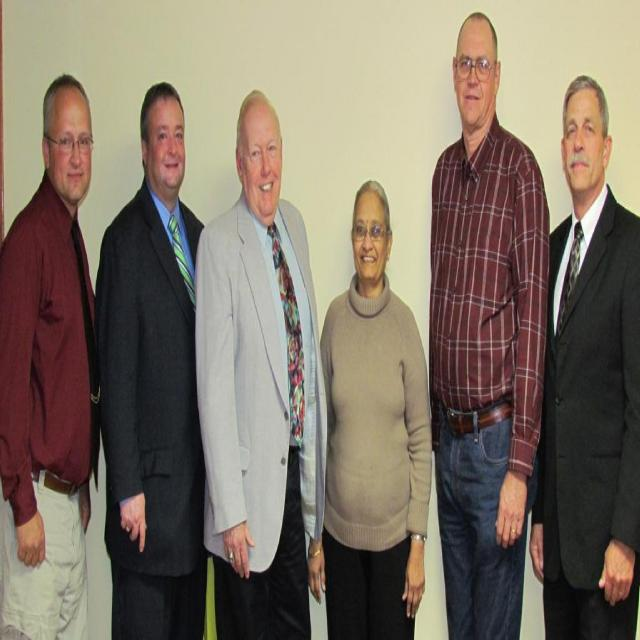nomask: (49, 84, 92, 199), (242, 104, 282, 215), (456, 15, 494, 125), (564, 88, 602, 188), (147, 93, 185, 185), (352, 191, 387, 280)
